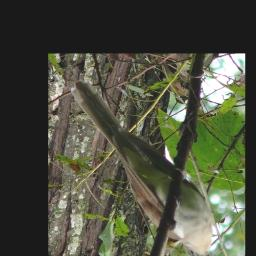Cuckoo: (70, 79, 216, 256)
